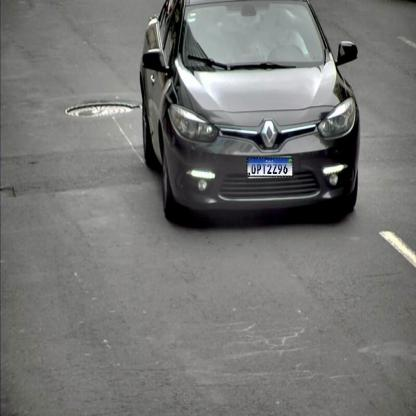PlacaM: (247, 157, 294, 177)
